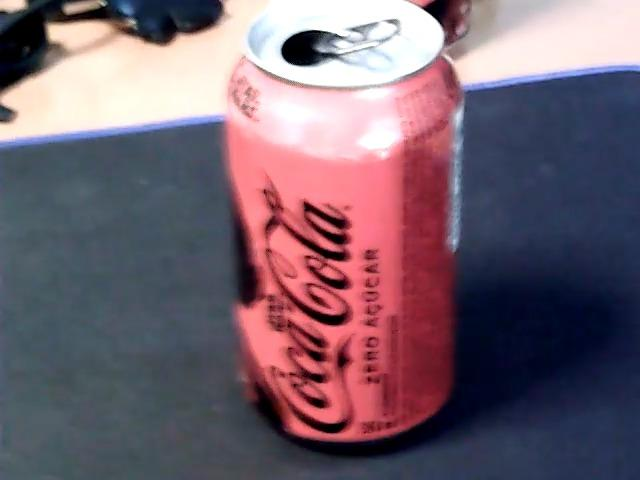coke: (224, 3, 466, 450)
